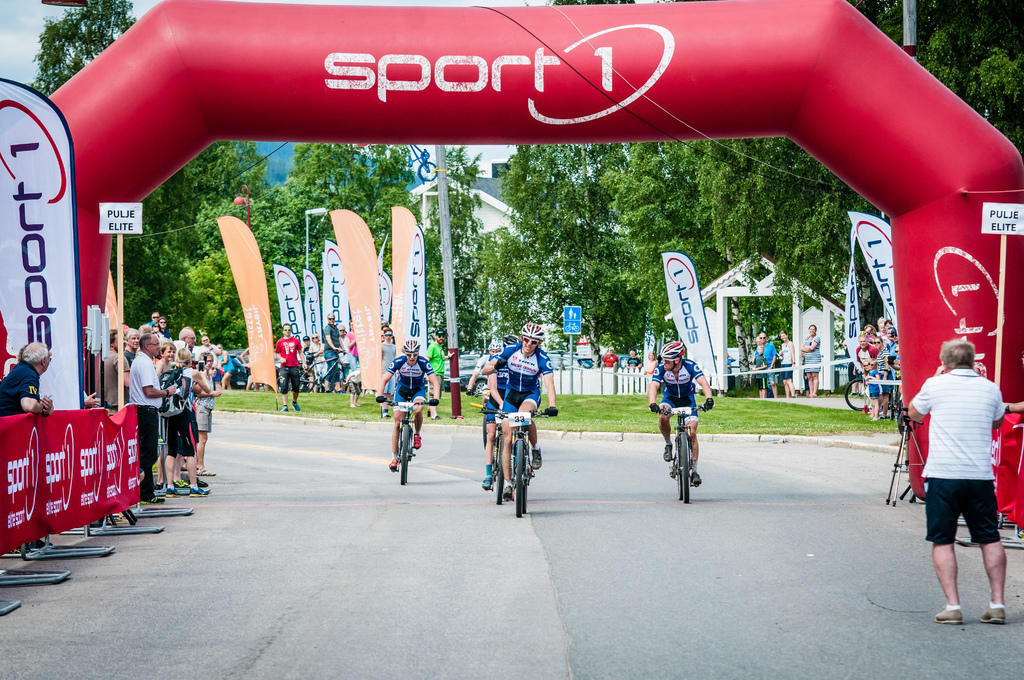Bike_toward: (475, 409, 557, 528), (643, 400, 714, 511)
